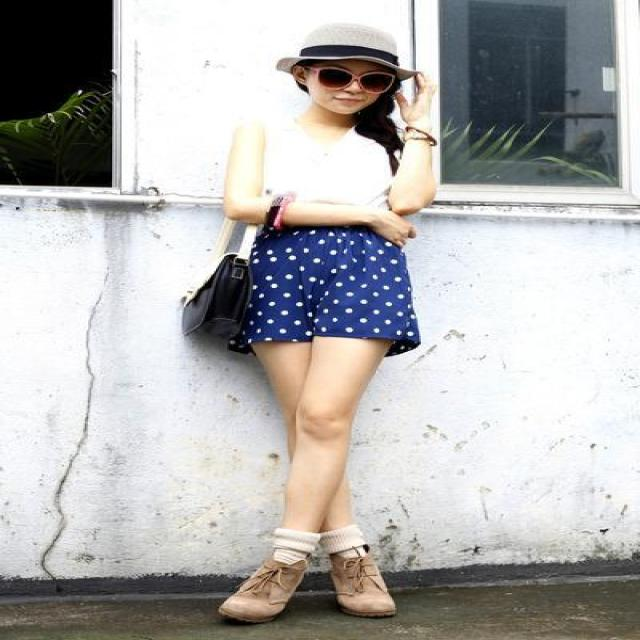bag: (182, 205, 284, 355)
hat: (277, 23, 411, 88)
shirt: (263, 106, 402, 204)
shoe: (220, 540, 394, 616)
skirt: (246, 218, 419, 344)
